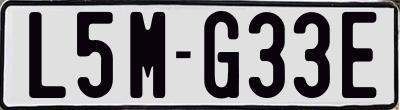3: (249, 9, 291, 100), (291, 10, 331, 99)
5: (75, 10, 117, 102)
E: (340, 9, 378, 97)
G: (202, 9, 238, 99)
L: (29, 11, 69, 99)
M: (130, 10, 170, 100)
